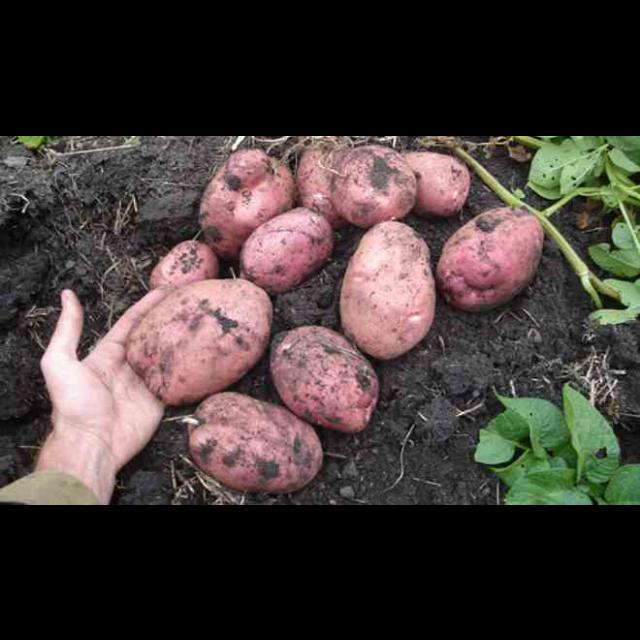Defected potato: (125, 276, 275, 406), (185, 392, 325, 494), (339, 218, 433, 359), (436, 202, 544, 312), (270, 324, 380, 432), (198, 146, 298, 260), (239, 207, 335, 295), (332, 144, 416, 226), (294, 135, 358, 229), (385, 149, 471, 213), (152, 237, 220, 310)
